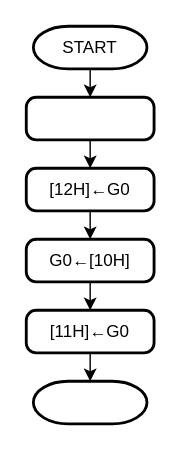
Image size: 179x449. Some labels were removed from this diagram. Here are the shapes that lost their labels. From the top down, the box of each, then its label:
(24, 95, 155, 141): G0←[11H]
(31, 379, 148, 425): END
